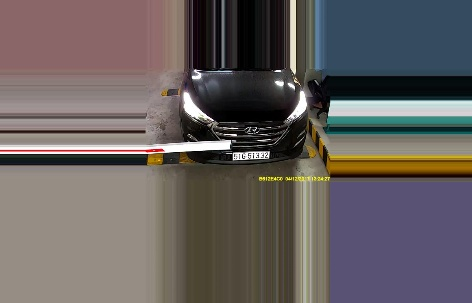plate: (230, 148, 272, 160)
